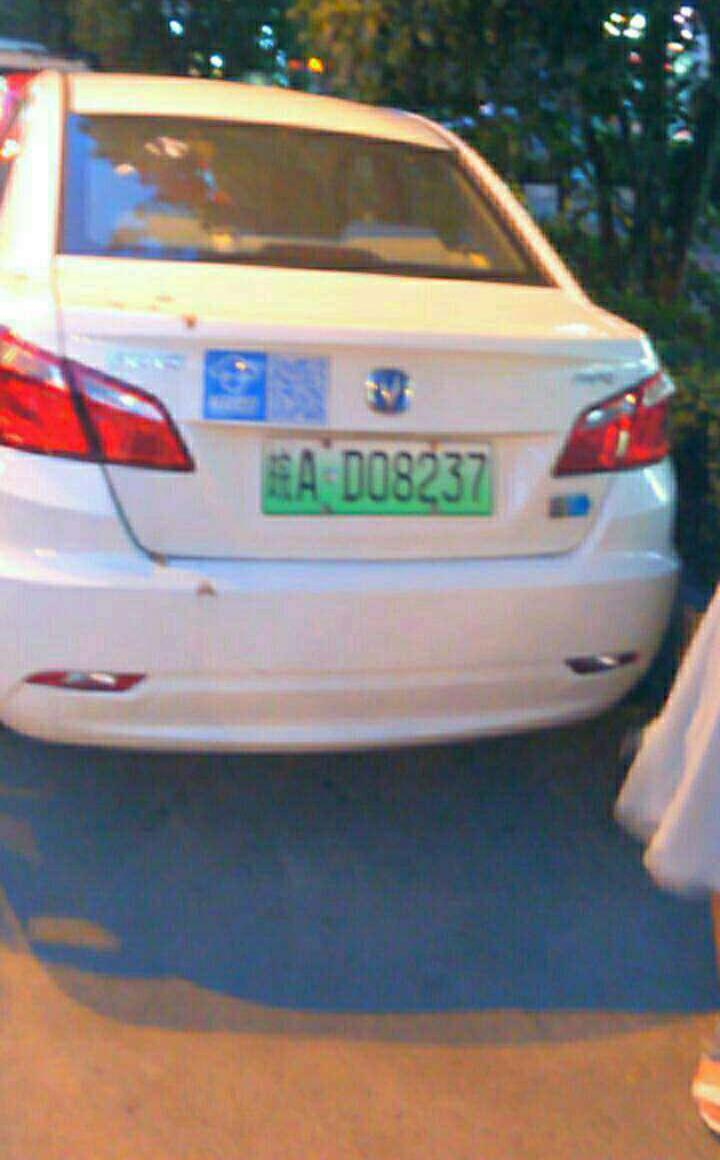car_id: (259, 441, 494, 516)
